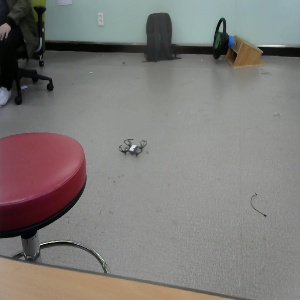Drone: (116, 132, 148, 159)
